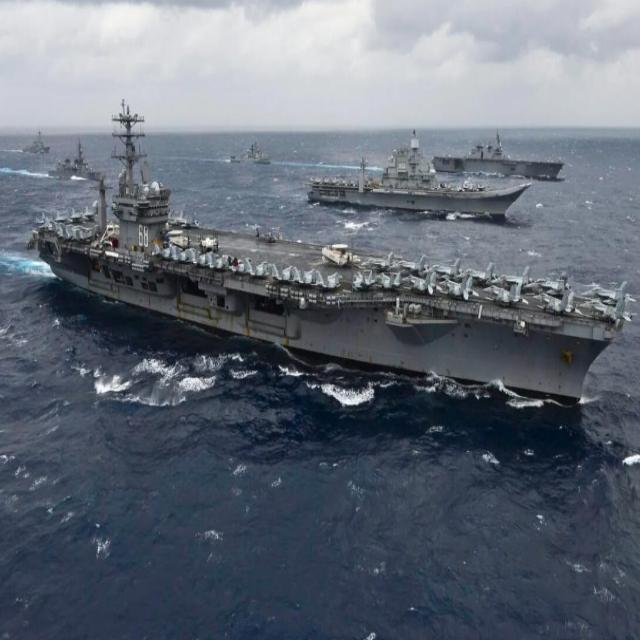navalvessels: (30, 106, 615, 414), (302, 124, 514, 236), (433, 110, 564, 194), (36, 137, 108, 179), (220, 134, 278, 163), (19, 125, 55, 167)
